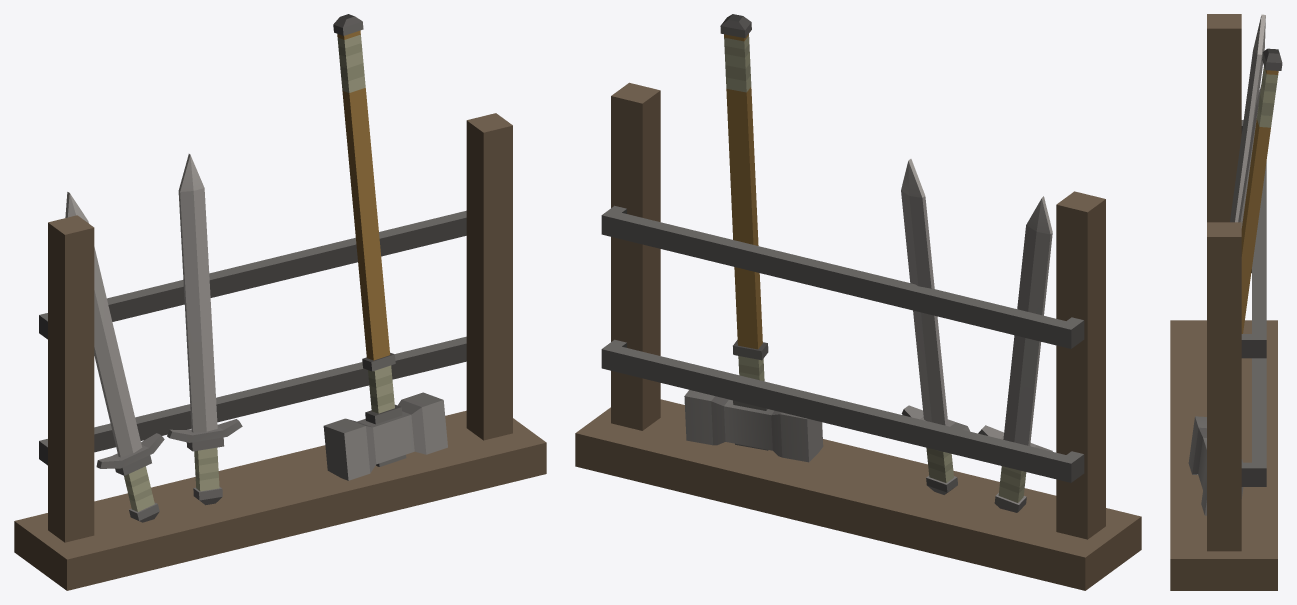
The model's file is SD_Prop_WeaponRack_03.fbx.
The picture shows the model from 3 angles, left to right: view 1: azimuth 30°, elevation 25°; view 2: azimuth 150°, elevation 25°; view 3: azimuth 270°, elevation 25°; orthographic projection. The views are drawn at different scales.
Visible parts, largest first — view 1: SD_Prop_WeaponRack_03; view 2: SD_Prop_WeaponRack_03; view 3: SD_Prop_WeaponRack_03.
Part boxes in pixels (box(x1,y1,x2,y2)): SD_Prop_WeaponRack_03: box(14, 14, 546, 590); SD_Prop_WeaponRack_03: box(575, 14, 1141, 590); SD_Prop_WeaponRack_03: box(1170, 14, 1282, 590).
Size of the model in its own units: 3.33 by 3.04 by 0.661.
